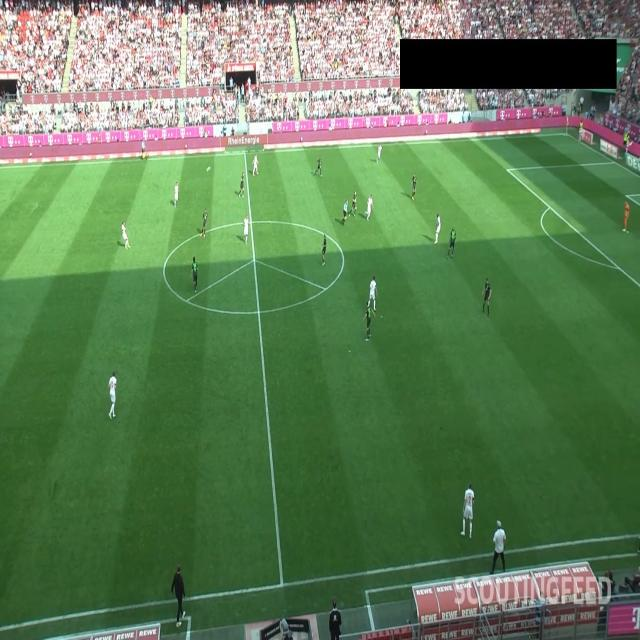ball: (206, 165, 211, 172)
